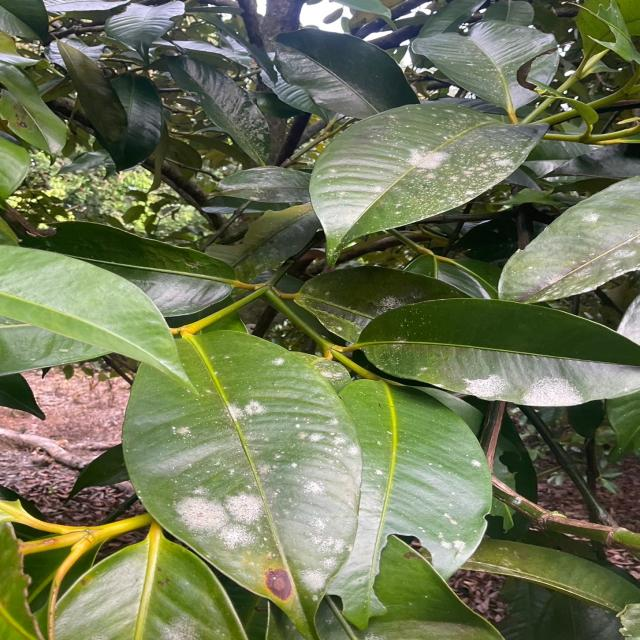Leaf Spot: (401, 139, 529, 212), (454, 364, 607, 420), (174, 483, 274, 557), (296, 417, 379, 464), (218, 393, 282, 424), (267, 342, 293, 369), (174, 423, 201, 448), (573, 205, 614, 219)
